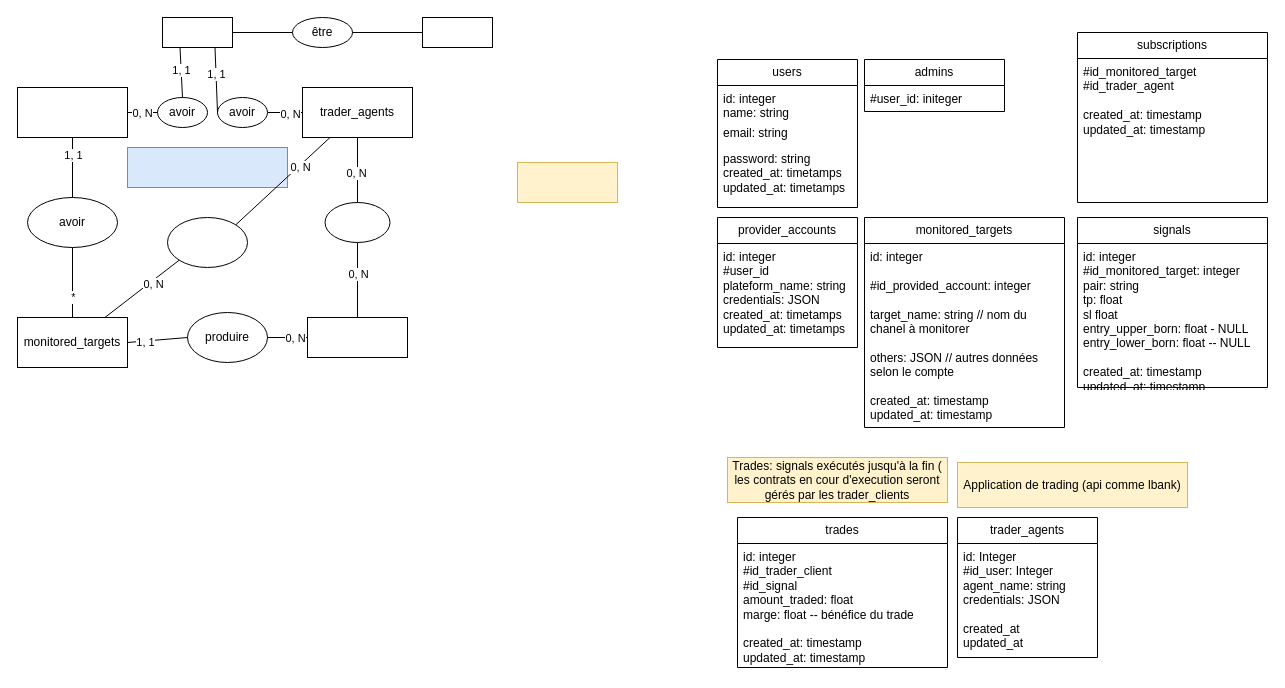
This 1285x688 diagram has some shape labels left out. Each missing label, with the centre of its shape:
admin: the point at 457,32
Modèle conceptuelle de données: the point at 207,167
provider_account: the point at 72,112
signal: the point at 357,337
signal provider: the point at 567,182
souscrire: the point at 207,242
Trader: the point at 357,222
user: the point at 197,32
